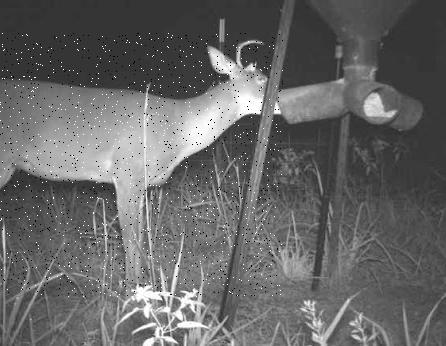Deer: (0, 33, 283, 297)
